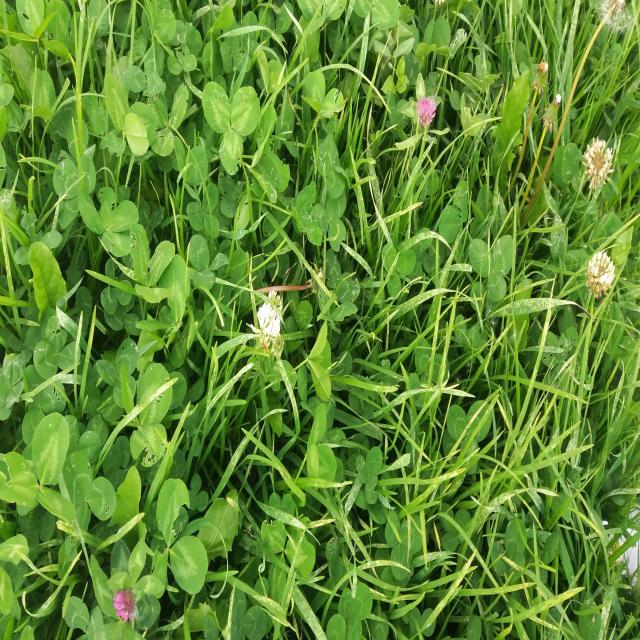Four Leaf Clover: (77, 186, 139, 257)
